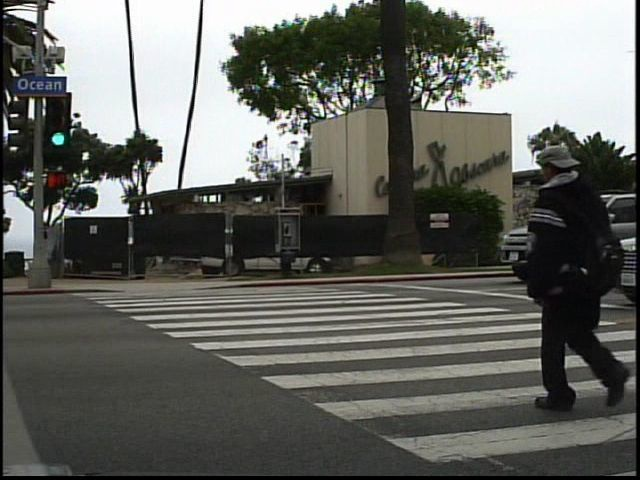person: (517, 136, 621, 414)
